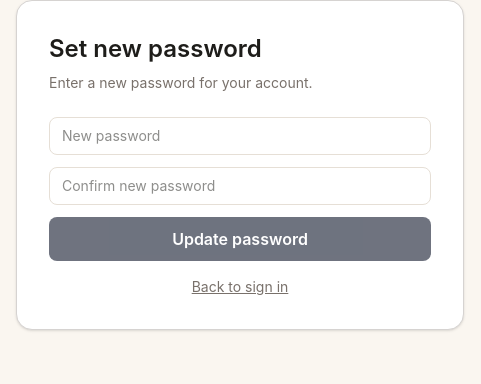
Test case: reset-password confirmation (focused) › shows network error on fetch exception
Type "new" into the password field with placeholder "New password" at [240, 136], box [49,117,431,155]
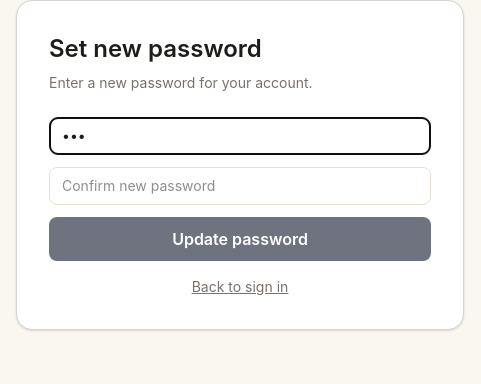
Type "new" into the password field with placeholder "Confirm new password" at [240, 186], box [49,167,431,205]
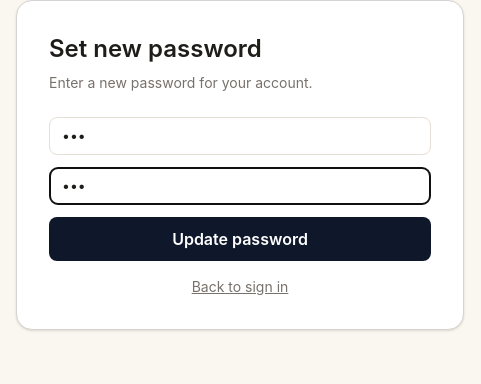
Click the button "Update password" at [240, 239], box [49,217,431,261]
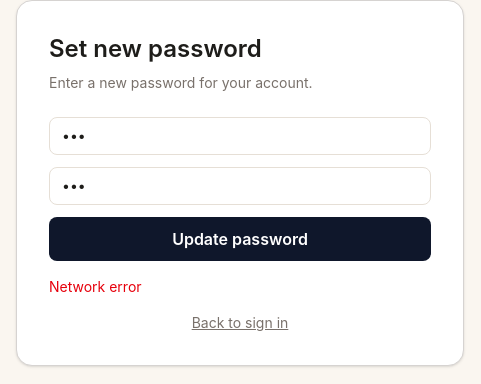
Expected: the text "Network error" is shown, [49,278,142,295]
